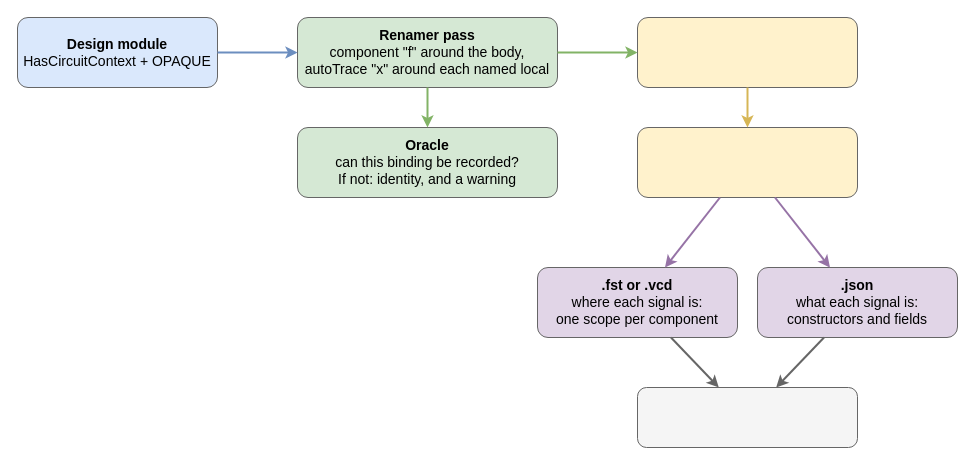
Image size: 975x465. Some labels were removed from this diagram. The shapes that lost their labels are listed below. From the top down, each one's centre as x and y in pixels, then its label:
the point at 747,52: Simulation under withRecording (or a Waveform helper)
the point at 747,162: Records the changes of each signal, in memory or in a spill file
the point at 747,417: Surfer with the clash-shockwaves plugin
